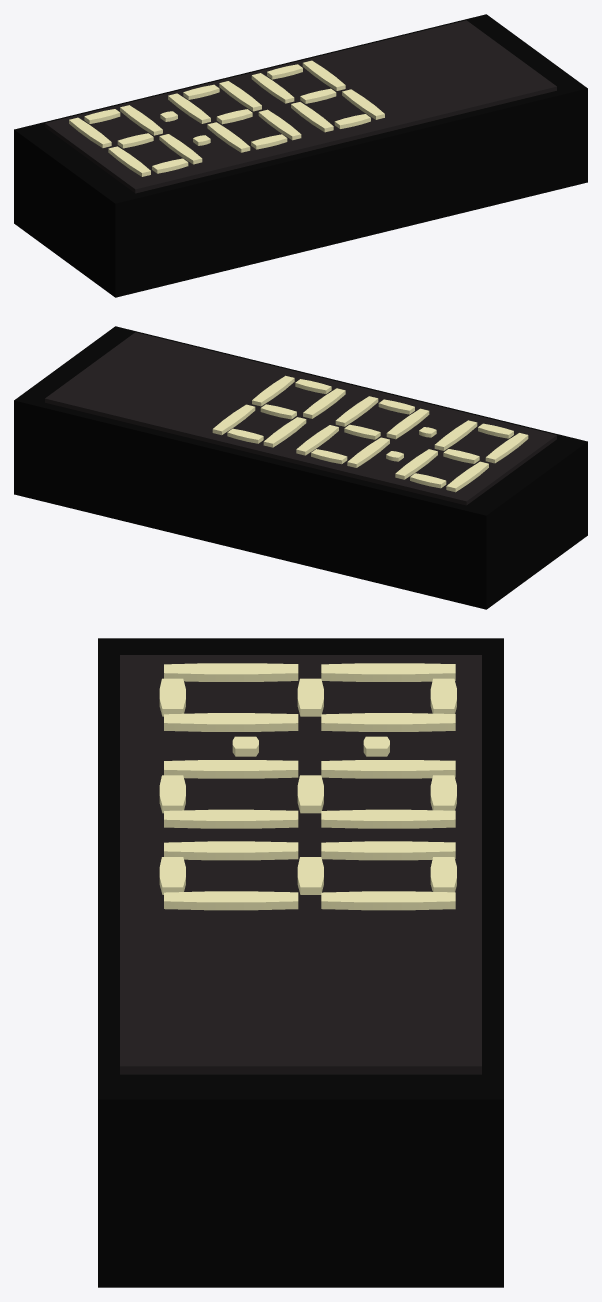
File: BackgroundSwitch001.FBX
3 renders of one model, top to bottom at view 1: azimuth 30°, elevation 25°; view 2: azimuth 150°, elevation 25°; view 3: azimuth 270°, elevation 25°, orthographic. The views are drawn at different scales.
Visible parts, largest first — view 1: Box001, Box002, Timer018, Timer009, Timer013, Timer001, Timer015, Timer011, Timer002, Timer004, Timer016, Timer020 (+2 smaller); view 2: Box001, Box002, Timer002, Timer015, Timer013, Timer018, Timer001, Timer009, Timer004, Timer008, Timer020, Timer011 (+2 smaller); view 3: Box002, Box001, Timer015, Timer016, Timer008, Timer009, Timer004, Timer001, Timer020, Timer018, Timer013, Timer011 (+11 smaller).
Part boxes in pixels (bbox=[...]): Box001: bbox=[14, 14, 587, 297]; Box002: bbox=[45, 20, 556, 193]; Timer018: bbox=[251, 73, 294, 103]; Timer009: bbox=[258, 109, 301, 140]; Timer013: bbox=[207, 122, 250, 152]; Timer001: bbox=[159, 134, 202, 164]; Timer015: bbox=[302, 60, 345, 90]; Timer011: bbox=[168, 93, 210, 123]; Timer002: bbox=[108, 146, 150, 176]; Timer004: bbox=[120, 105, 162, 135]; Timer016: bbox=[342, 89, 384, 119]; Timer020: bbox=[291, 102, 333, 132]; Box001: bbox=[14, 326, 587, 609]; Box002: bbox=[45, 332, 556, 505]; Timer002: bbox=[485, 433, 528, 463]; Timer015: bbox=[212, 404, 255, 435]; Timer013: bbox=[386, 408, 429, 439]; Timer018: bbox=[263, 417, 306, 447]; Timer001: bbox=[434, 420, 477, 450]; Timer009: bbox=[335, 396, 378, 426]; Timer004: bbox=[395, 449, 437, 479]; Timer008: bbox=[296, 425, 338, 455]; Timer020: bbox=[303, 388, 345, 418]; Timer011: bbox=[347, 437, 389, 467]; Box002: bbox=[120, 655, 481, 1074]; Box001: bbox=[98, 638, 503, 1287]; Timer015: bbox=[321, 891, 455, 910]; Timer016: bbox=[164, 891, 298, 910]; Timer008: bbox=[321, 809, 455, 828]; Timer009: bbox=[164, 809, 298, 828]; Timer004: bbox=[321, 713, 455, 731]; Timer001: bbox=[164, 713, 298, 731]; Timer020: bbox=[164, 841, 298, 860]; Timer018: bbox=[321, 841, 455, 860]; Timer013: bbox=[164, 760, 298, 778]; Timer011: bbox=[321, 760, 455, 778].
Size of the model in its own units: 111 by 22.84 by 41.15.
3 materials, 3 textured.
